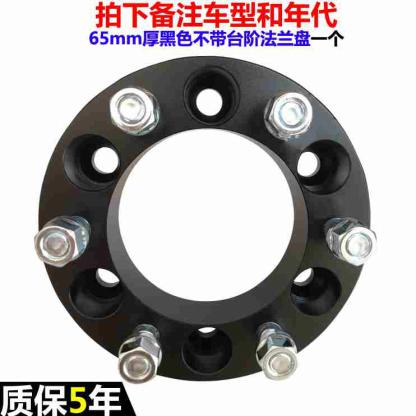FOD: (32, 44, 374, 396)
